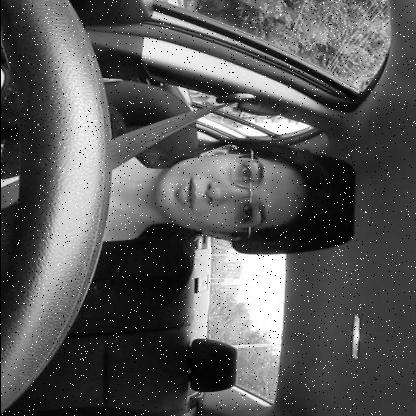seatbelt: (0, 129, 346, 250)
